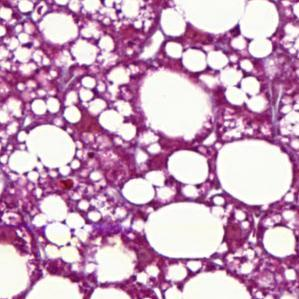steatosis: (213, 137, 294, 204), (143, 203, 226, 258), (164, 147, 213, 186)
